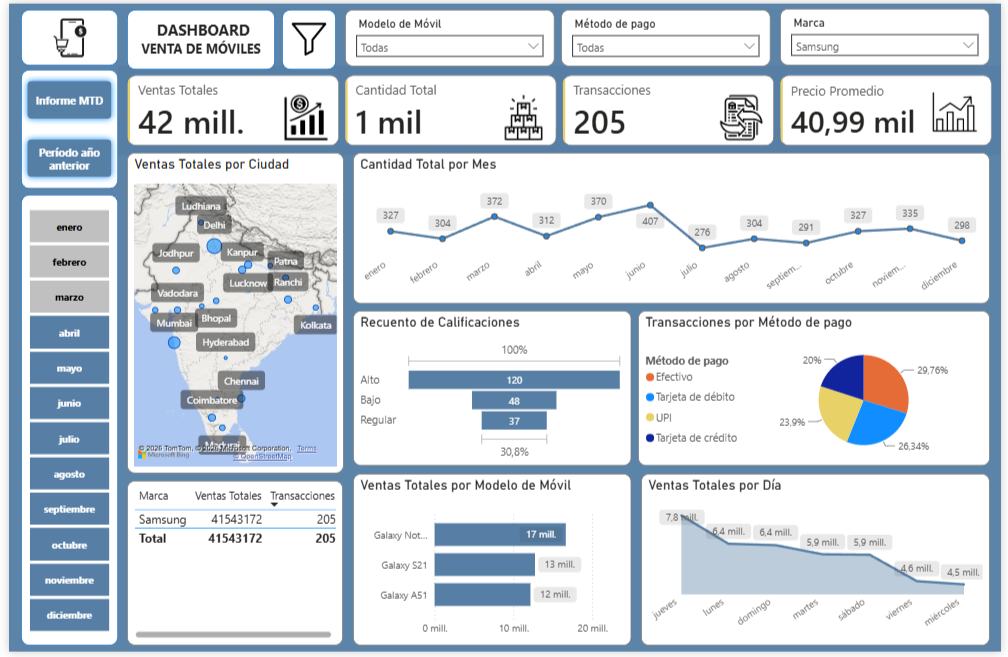

Layout of this report page (visuals, bound fields, positions):
{"tool":"powerbi","page":{"name":"Dashboard","canvas":[1240,810],"ordinal":0},"visuals":[{"type":"shape","box":[15.6,7.8,121.2,70],"z":0},{"type":"shape","box":[15.6,83,121.2,149],"z":1000},{"type":"shape","box":[15.6,238.9,121.2,563.8],"z":2000},{"type":"slicer","fields":{"Values":["Custom_Calendar.Fecha.Variación.Jerarquía de fechas.Mes"]},"box":[0,251.1,148.8,540],"z":3000},{"type":"cardVisual","fields":{"Data":["Sales_Data.Total_Sales","Sales_Data.Total_Quantity","Sales_Data.Transactions","Sales_Data.Average_Price"]},"box":[136.2,77.5,1106.2,112.5],"z":4000},{"type":"slicer","fields":{"Values":["Sales_Data.Mobile Model"]},"box":[420,7.5,262,71.2],"z":5000},{"type":"slicer","fields":{"Values":["Sales_Data.Payment Method"]},"box":[690,7.5,262,71.2],"z":6000},{"type":"slicer","fields":{"Values":["Sales_Data.Brand"]},"box":[963.8,6.2,262,71.2],"z":7000},{"type":"shape","box":[341.2,7.5,67.5,75],"z":8000},{"type":"image","box":[352.5,22.5,45,43.8],"z":9000},{"type":"shape","box":[147.5,7.5,185,75],"z":10000},{"type":"textbox","box":[155,15,170,58.8],"z":11000},{"type":"map","title":"Ventas Totales por Ciudad","fields":{"Category":["Sales_Data.City"],"Size":["Sales_Data.Total_Sales"]},"box":[147.5,186.2,271.2,401.2],"z":12000},{"type":"lineChart","title":"Cantidad Total por Mes","fields":{"Y":["Sales_Data.Total_Quantity"],"Category":["Custom_Calendar.Fecha.Variación.Jerarquía de fechas.Mes"]},"box":[430,186.2,796.2,188.8],"z":13000},{"type":"funnel","title":"Recuento de Calificaciones","fields":{"Category":["Sales_Data.Rating Status"],"Y":["CountNonNull(Sales_Data.Rating Status)"]},"box":[430,383.8,347.5,193.8],"z":14000},{"type":"pieChart","title":"Transacciones por Método de pago","fields":{"Y":["Sales_Data.Transactions"],"Category":["Sales_Data.Payment Method"]},"box":[786.2,383.8,440,193.8],"z":15000},{"type":"clusteredBarChart","title":"Ventas Totales por Modelo de Móvil","fields":{"Y":["Sales_Data.Total_Sales"],"Category":["Sales_Data.Mobile Model"]},"box":[430,587.5,347.5,215],"z":16000},{"type":"areaChart","title":"Ventas Totales por Día","fields":{"Y":["Sales_Data.Total_Sales"],"Category":["Custom_Calendar.Nombre del día"]},"box":[790,587.5,436.2,215],"z":17000},{"type":"tableEx","fields":{"Values":["Sales_Data.Brand","Sales_Data.Total_Sales","Sales_Data.Transactions"]},"box":[147.5,596.2,270,206.2],"z":18000},{"type":"pageNavigator","box":[15,88.8,121.2,137.5],"z":19000},{"type":"image","box":[43.8,1.2,65,83],"z":20000}]}

Visuals, with their boxes in screenshot pixels (x1, y1, x2, y2), scaled from the page's 1240x810 canvas onto the 1008x657 screenshot:
shape: 13/6/111/63
shape: 13/67/111/188
shape: 13/194/111/651
slicer - Custom_Calendar.Fecha.Variación.Jerarquía de fechas.Mes: 0/204/121/642
cardVisual - Sales_Data.Total_Sales x Sales_Data.Total_Quantity: 111/63/1007/154
slicer - Sales_Data.Mobile Model: 341/6/554/64
slicer - Sales_Data.Payment Method: 561/6/774/64
slicer - Sales_Data.Brand: 783/5/996/63
shape: 277/6/332/67
image: 287/18/323/54
shape: 120/6/270/67
textbox: 126/12/264/60
"Ventas Totales por Ciudad" map: 120/151/340/476
"Cantidad Total por Mes" lineChart: 350/151/997/304
"Recuento de Calificaciones" funnel: 350/311/632/468
"Transacciones por Método de pago" pieChart: 639/311/997/468
"Ventas Totales por Modelo de Móvil" clusteredBarChart: 350/477/632/651
"Ventas Totales por Día" areaChart: 642/477/997/651
tableEx - Sales_Data.Brand x Sales_Data.Total_Sales: 120/484/339/651
pageNavigator: 12/72/111/184
image: 36/1/88/68
